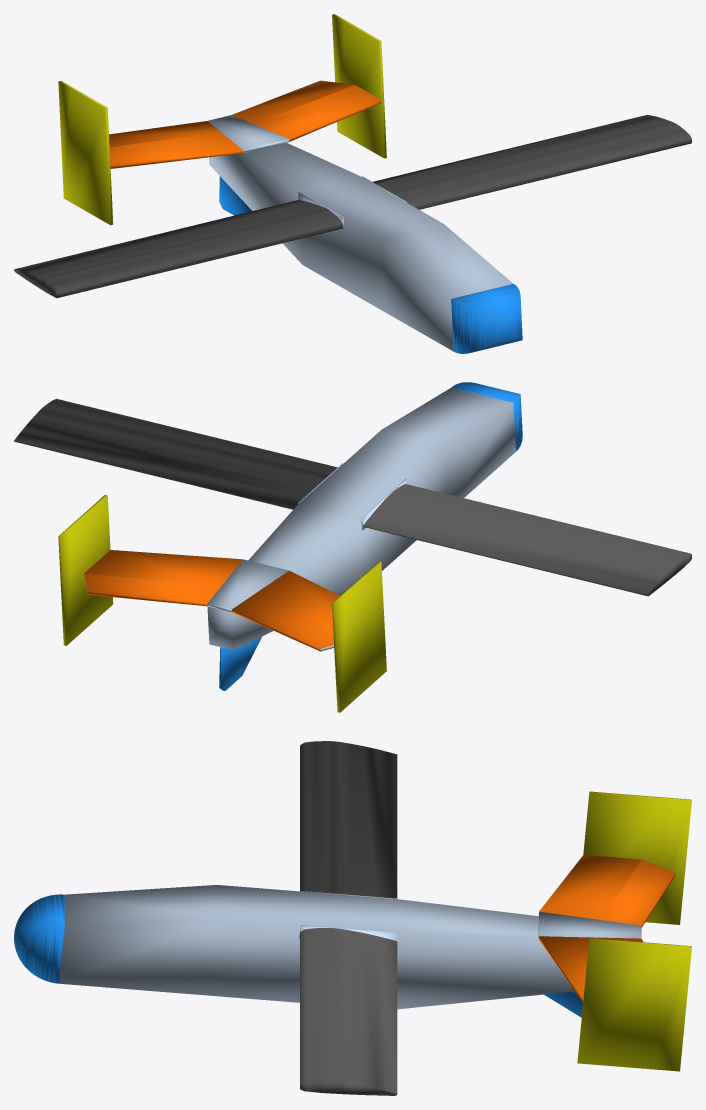
3 views of the same model, one above another, from view 1: azimuth 30°, elevation 25°; view 2: azimuth 150°, elevation 25°; view 3: azimuth 270°, elevation 25° (orthographic). The views are drawn at different scales.
Visible parts, largest first — view 1: STL object_silver, STL object_gray, STL object_yellow, STL object_orange, STL object_blau; view 2: STL object_gray, STL object_silver, STL object_orange, STL object_yellow, STL object_blau; view 3: STL object_silver, STL object_gray, STL object_yellow, STL object_orange, STL object_blau, STL object_default.
Boxes of the visible parts, x1,y1,x2,y2 form: STL object_silver: (208,115,513,351); STL object_gray: (14,115,691,298); STL object_yellow: (58,14,386,225); STL object_orange: (109,80,381,168); STL object_blau: (219,176,522,353); STL object_gray: (14,398,691,596); STL object_silver: (207,387,515,650); STL object_orange: (84,550,339,651); STL object_yellow: (58,495,386,712); STL object_blau: (219,382,522,690); STL object_silver: (59,885,641,1009); STL object_gray: (300,741,397,1095); STL object_yellow: (577,791,691,1071); STL object_orange: (538,855,675,1002); STL object_blau: (14,894,582,1017); STL object_default: (299,891,538,942).
Bounding box in the file's own units: 1169 × 261 × 988.
